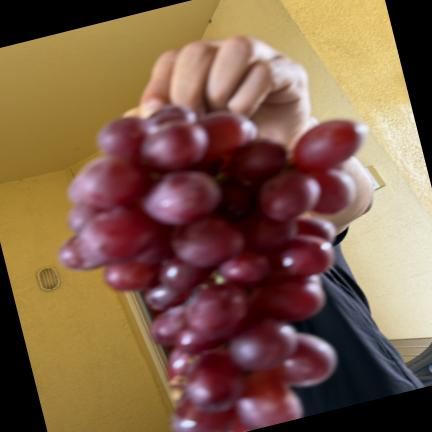grape_cluster: (59, 105, 366, 432)
